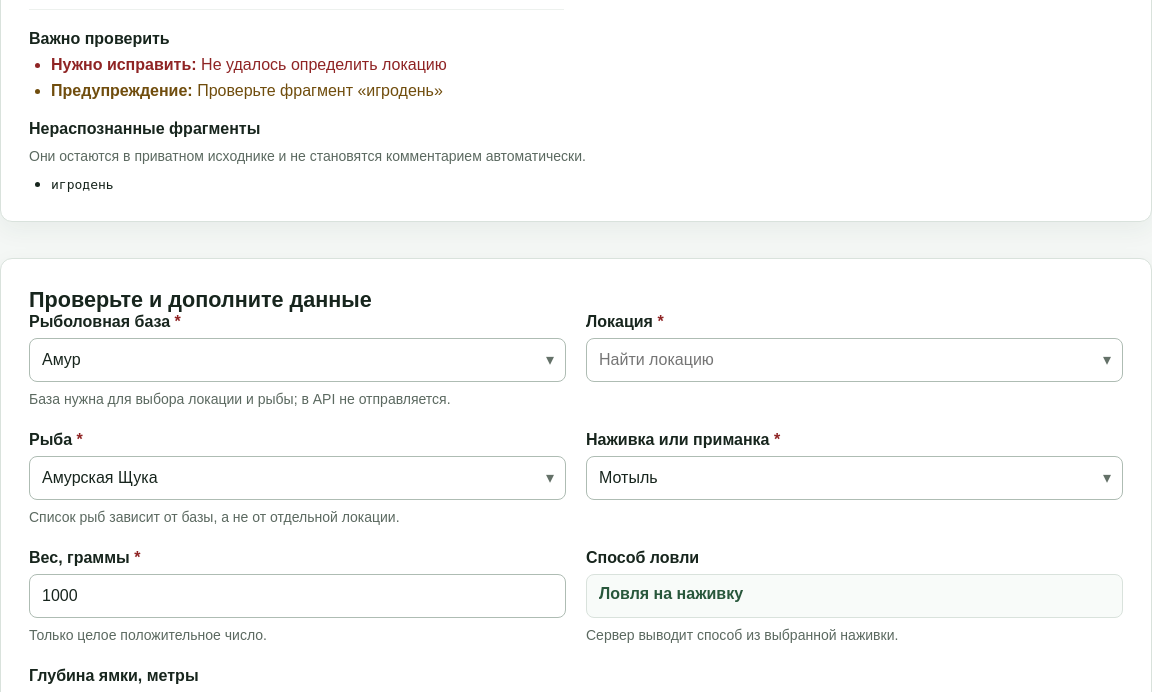
Test: CatchReportForm › recomputes BLOCKING issues after repair while keeping WARNING nonblocking
(page scrolled)
Expected: the list item "Не удалось определить локацию" is shown, [201,56,447,73]
Expected: the list item "Предупреждение: Проверьте фрагмент «игродень»" is shown, [51,82,443,99]
Click the dropdown labelled "Локация *": (854, 360) [586,338,1123,382]
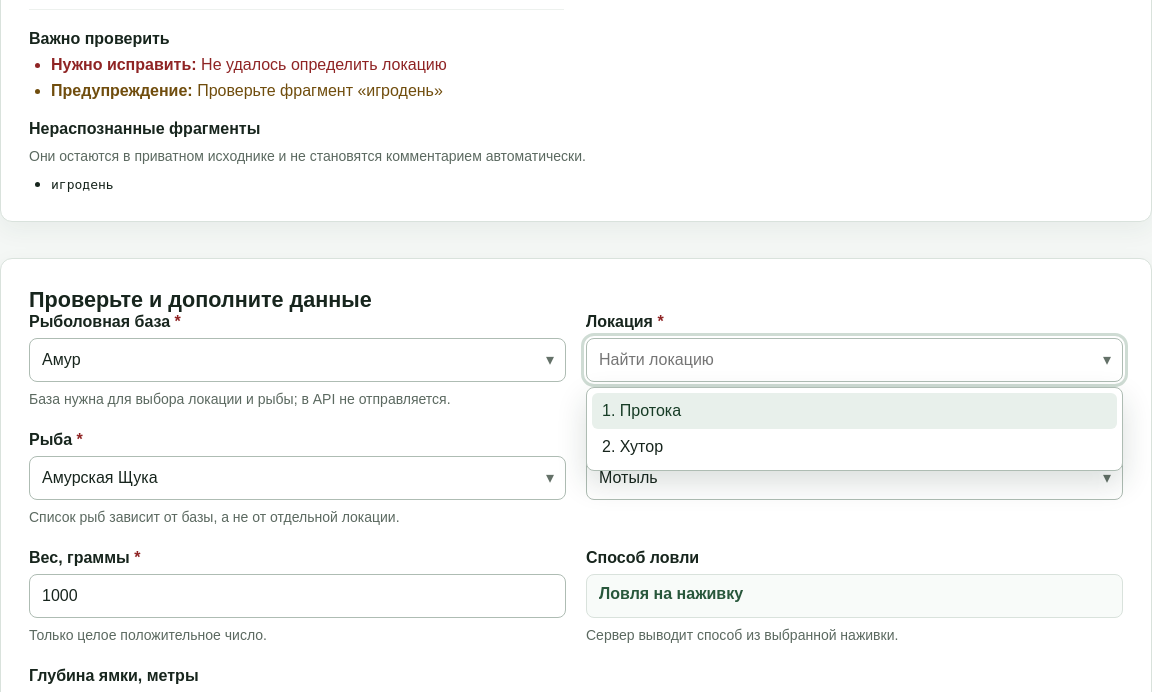
Click the option "1. Протока": (642, 411) [592,394,1117,430]
(page scrolled)
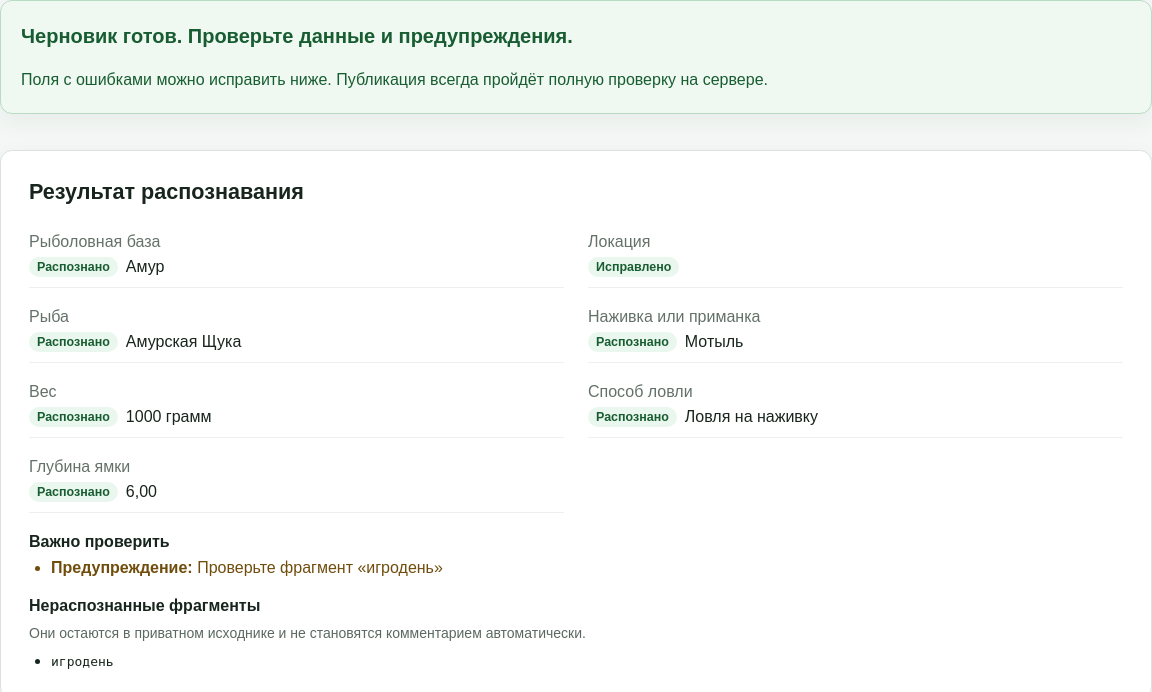
Expected: the list item "Предупреждение: Проверьте фрагмент «игродень»" is shown, [51,559,443,576]
Now the list item "Не удалось определить локацию" is gone
Now the text "Исправлено" is shown, box [588,257,679,277]
